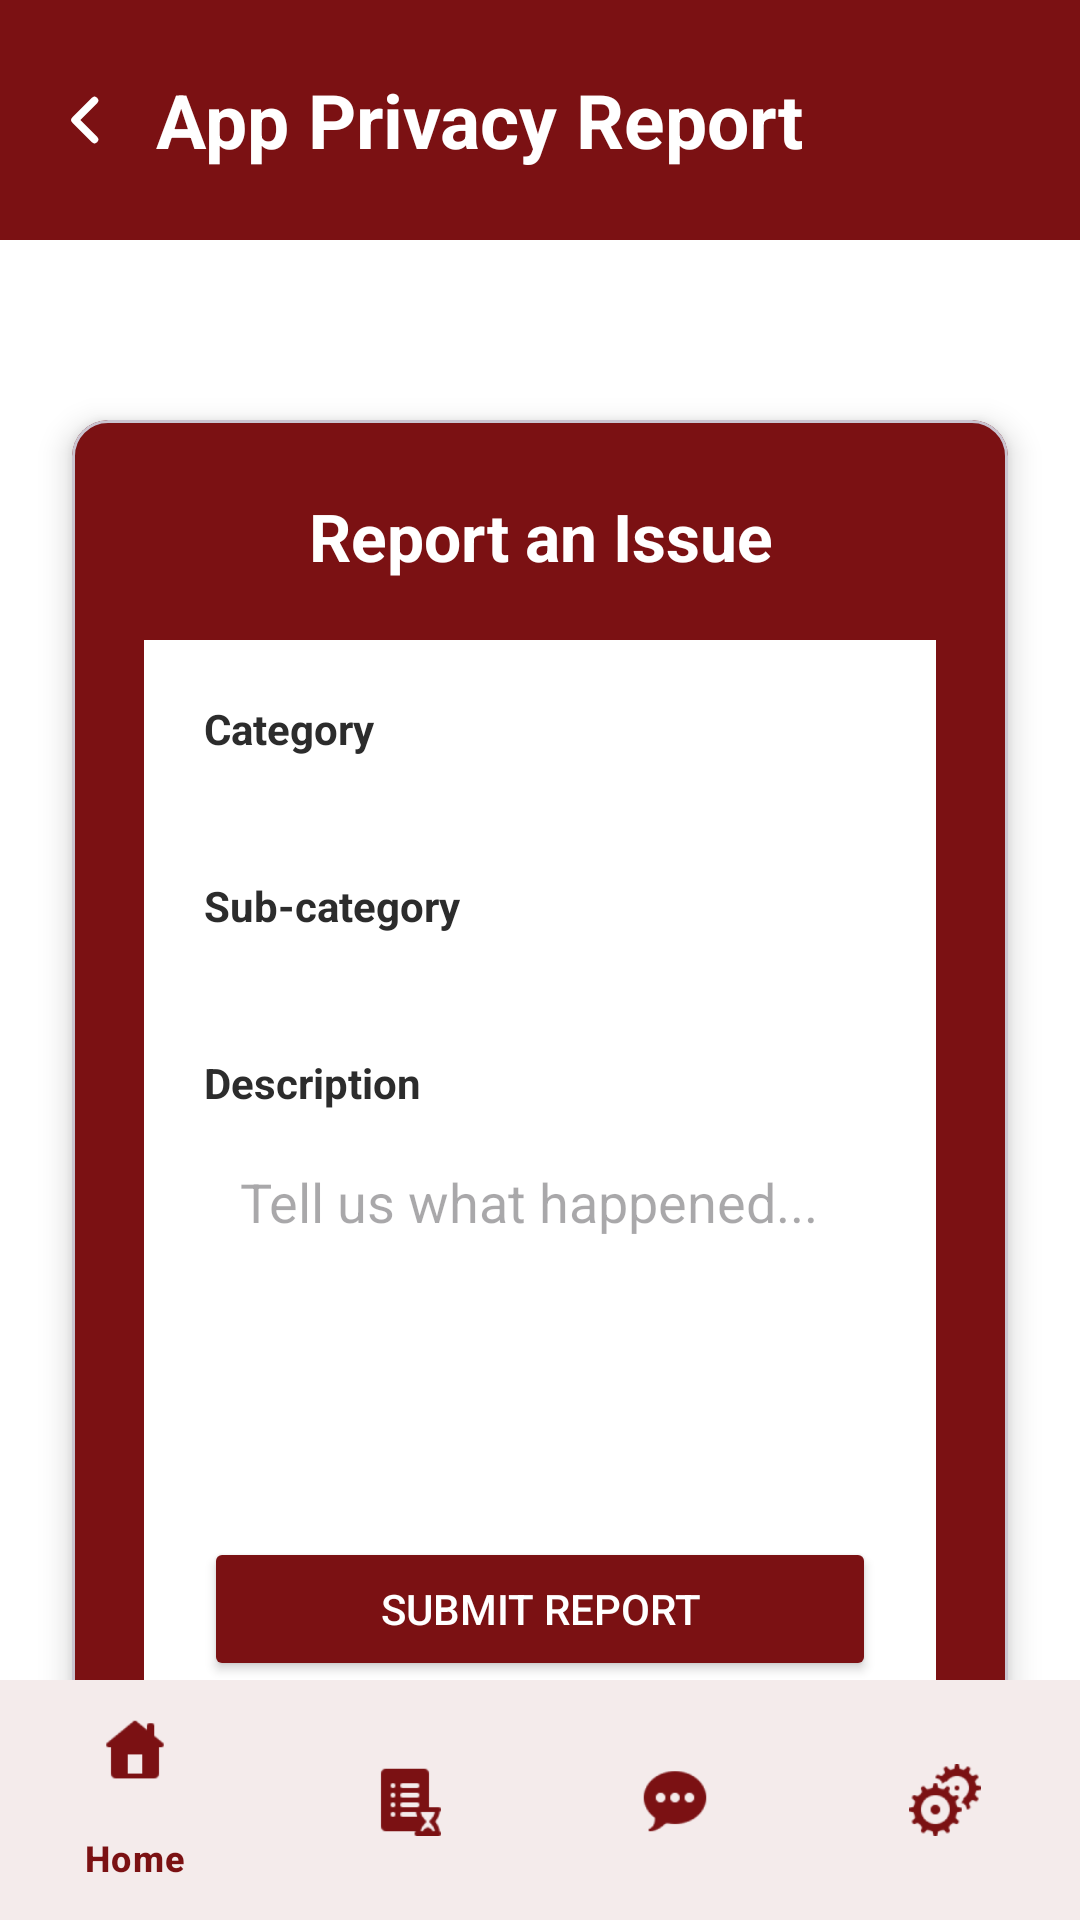

Named icons in this screenshot (1080w x 1920h) and their centers, [x,y]:
Back: [85,120]
